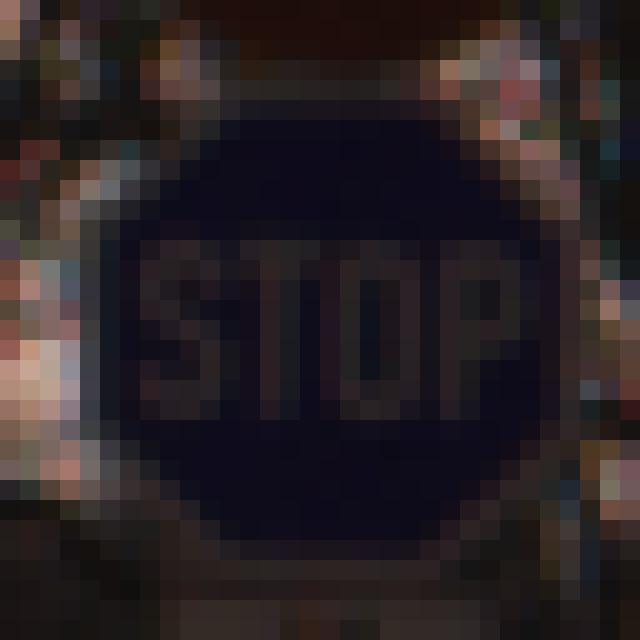STOP: (75, 91, 598, 586)
